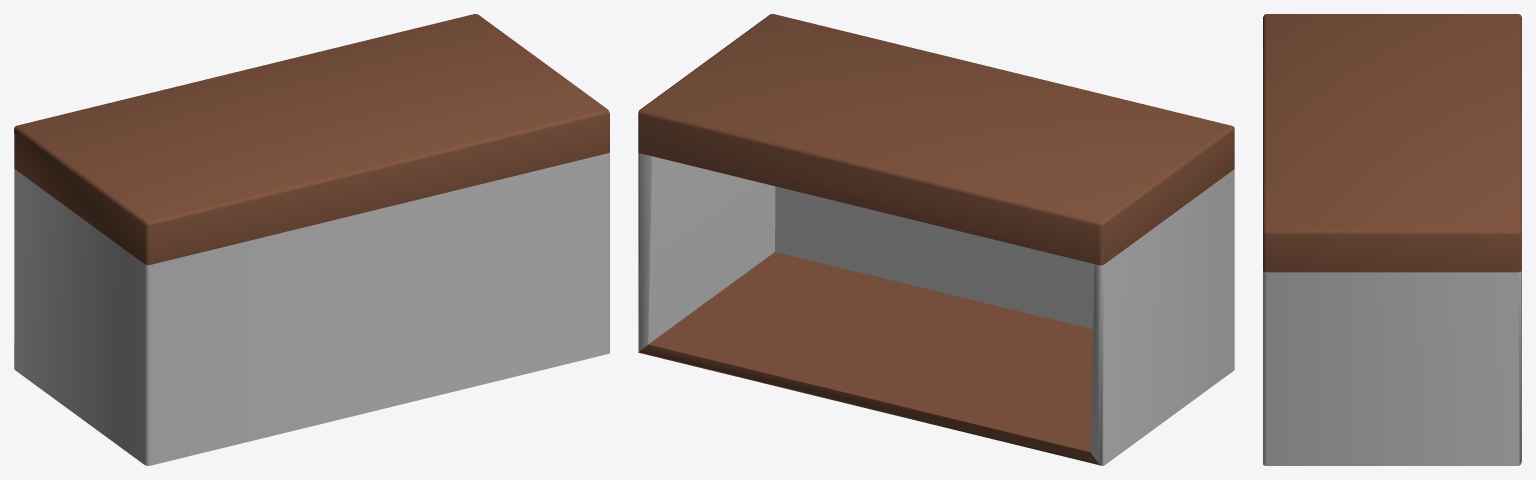
Rendered from Vault-Section-Cabinet-2.fbx.
3 renders of one model, left to right at view 1: azimuth 30°, elevation 25°; view 2: azimuth 150°, elevation 25°; view 3: azimuth 270°, elevation 25°, orthographic. The views are drawn at different scales.
Visible parts, largest first — view 1: Vault-Section-Cabinet-2; view 2: Vault-Section-Cabinet-2; view 3: Vault-Section-Cabinet-2.
Boxes of the visible parts, x1,y1,x2,y2 form: Vault-Section-Cabinet-2: (14,14,609,465); Vault-Section-Cabinet-2: (638,14,1234,465); Vault-Section-Cabinet-2: (1263,14,1521,465).
Size of the model in its own units: 2 by 1 by 1.
